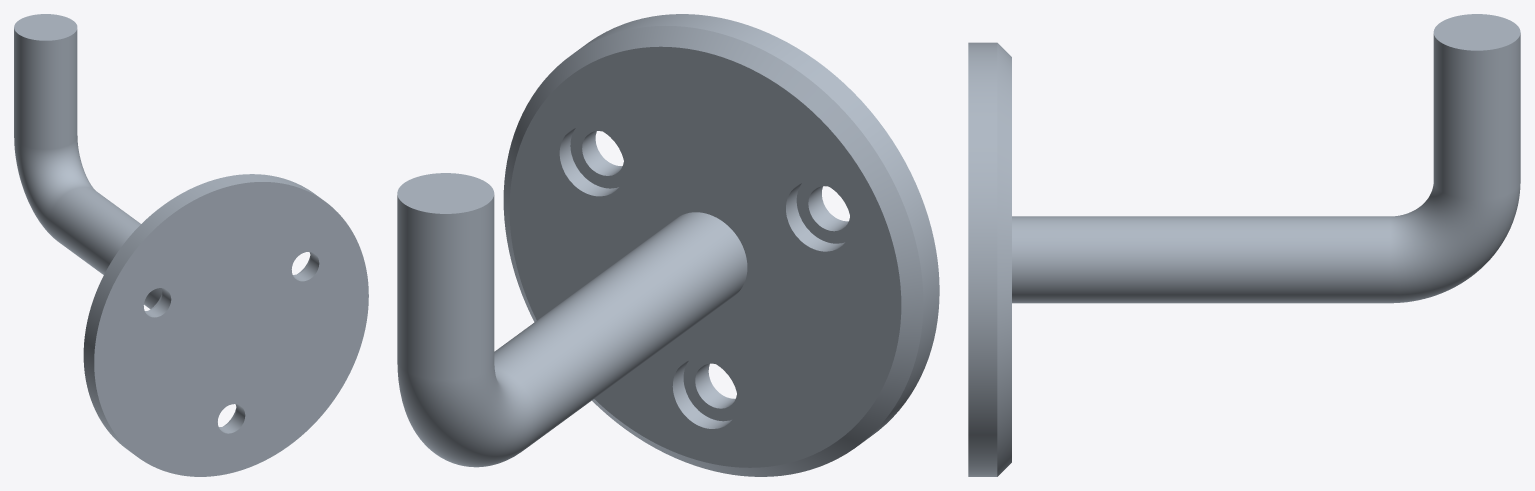
File: rene-bracket.glb
3 renders of one model, left to right at view 1: azimuth 30°, elevation 25°; view 2: azimuth 150°, elevation 25°; view 3: azimuth 270°, elevation 25°, orthographic. The views are drawn at different scales.
Parts seen in each view (by area): view 1: Bracket; view 2: Bracket; view 3: Bracket.
Boxes of the visible parts, <box> form: Bracket: <box>14,14,368,476</box>; Bracket: <box>397,14,939,476</box>; Bracket: <box>968,14,1520,476</box>.
Bounding box in the file's own units: 0.045 × 0.0485 × 0.0572.
